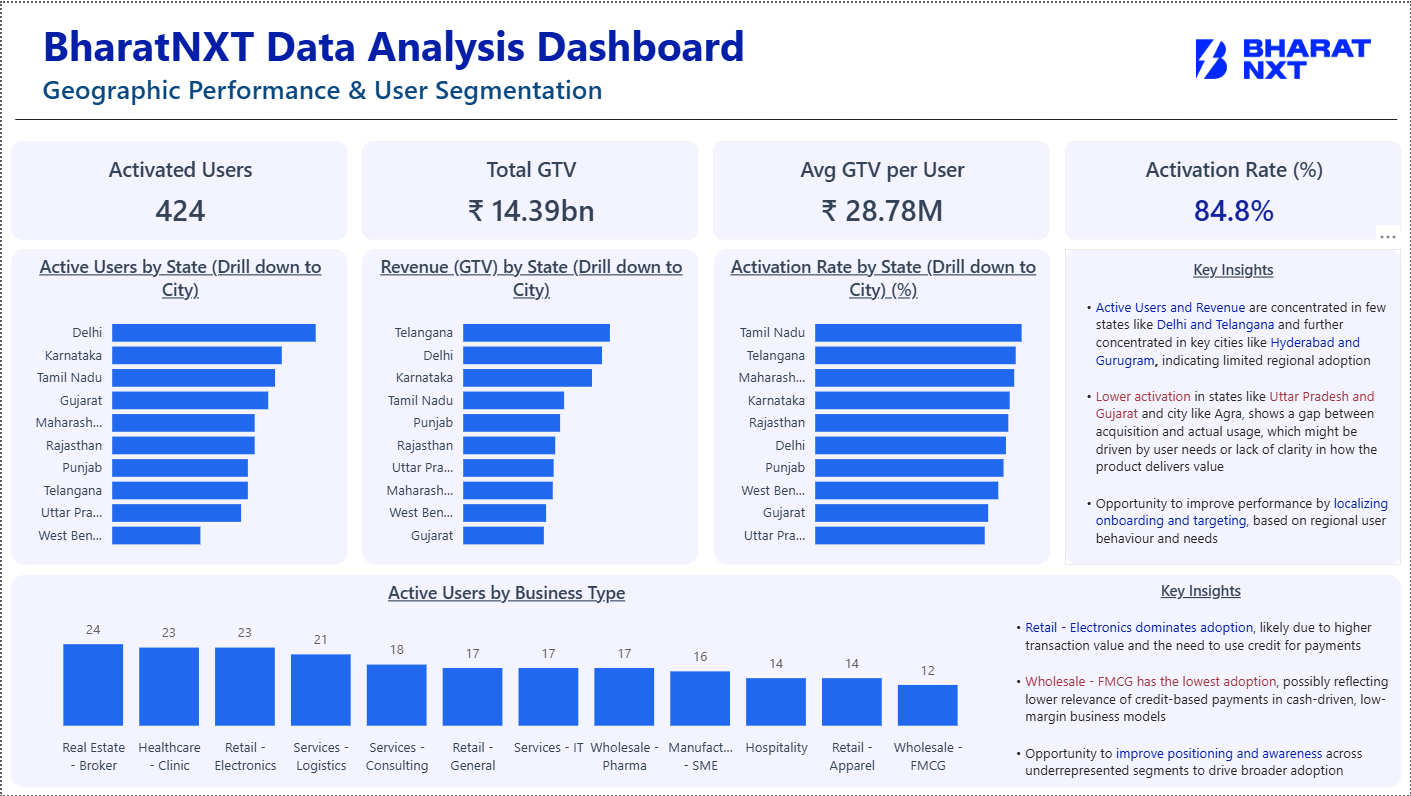

This screenshot's page, from the dashboard's own definition file:
{"tool":"powerbi","page":{"name":"Geographic Performance & User Segmentation","canvas":[1280,720],"ordinal":1},"visuals":[{"type":"textbox","box":[32,7,656,62],"z":0},{"type":"cardVisual","fields":{"Data":["Measures Table.Total Activated Users"]},"box":[8,125,306,90],"z":1000},{"type":"cardVisual","fields":{"Data":["Measures Table.Total GTV"]},"box":[327.3,125,306,90],"z":2000},{"type":"cardVisual","fields":{"Data":["Measures Table.Avg GTV per User"]},"box":[646.7,125,306,90],"z":3000},{"type":"cardVisual","fields":{"Data":["Measures Table.Activation Rate"]},"box":[966,125,306,90],"z":4000},{"type":"textbox","box":[31.8,56.4,523.6,45.5],"z":5000},{"type":"textbox","box":[0,91,1280,27],"z":6000},{"type":"clusteredBarChart","title":"Active Users by State (Drill down to City)","fields":{"Y":["Measures Table.Total Active Users"],"Category":["User MIS copy.State","User MIS copy.City"]},"box":[8,224,306,287],"z":7000},{"type":"clusteredBarChart","title":"Revenue (GTV) by State (Drill down to City)","fields":{"Y":["Measures Table.Total GTV"],"Category":["User MIS copy.State","User MIS copy.City"]},"box":[327,224,306,287],"z":8000},{"type":"textbox","box":[966,224,306,287],"z":9000},{"type":"clusteredColumnChart","title":"Active Users by Business Type","fields":{"Category":["User MIS copy.Business Type"],"Y":["Measures Table.Total Active Users"]},"box":[8,520,899,193],"z":10000},{"type":"clusteredBarChart","title":"Activation Rate by State (Drill down to City) (%)","fields":{"Y":["Measures Table.Activation Rate"],"Category":["User MIS copy.State","User MIS copy.City"]},"box":[647,224,306,287],"z":11000},{"type":"textbox","box":[877,520,395,193],"z":12000},{"type":"textbox","box":[907,520,365,193],"z":13000},{"type":"image","box":[1085,0,159,102],"z":14000}]}

Visuals, with their boxes in screenshot pixels (x1, y1, x2, y2), scaled from the page's 1280x720 canvas onto the 1411x796 screenshot:
textbox: [x1=35, y1=8, x2=758, y2=76]
cardVisual - Measures Table.Total Activated Users: [x1=9, y1=138, x2=346, y2=238]
cardVisual - Measures Table.Total GTV: [x1=361, y1=138, x2=698, y2=238]
cardVisual - Measures Table.Avg GTV per User: [x1=713, y1=138, x2=1050, y2=238]
cardVisual - Measures Table.Activation Rate: [x1=1065, y1=138, x2=1402, y2=238]
textbox: [x1=35, y1=62, x2=612, y2=113]
textbox: [x1=0, y1=101, x2=1410, y2=130]
"Active Users by State (Drill down to City)" clusteredBarChart: [x1=9, y1=248, x2=346, y2=565]
"Revenue (GTV) by State (Drill down to City)" clusteredBarChart: [x1=360, y1=248, x2=698, y2=565]
textbox: [x1=1065, y1=248, x2=1402, y2=565]
"Active Users by Business Type" clusteredColumnChart: [x1=9, y1=575, x2=1000, y2=788]
"Activation Rate by State (Drill down to City) (%)" clusteredBarChart: [x1=713, y1=248, x2=1051, y2=565]
textbox: [x1=967, y1=575, x2=1402, y2=788]
textbox: [x1=1000, y1=575, x2=1402, y2=788]
image: [x1=1196, y1=0, x2=1371, y2=113]
